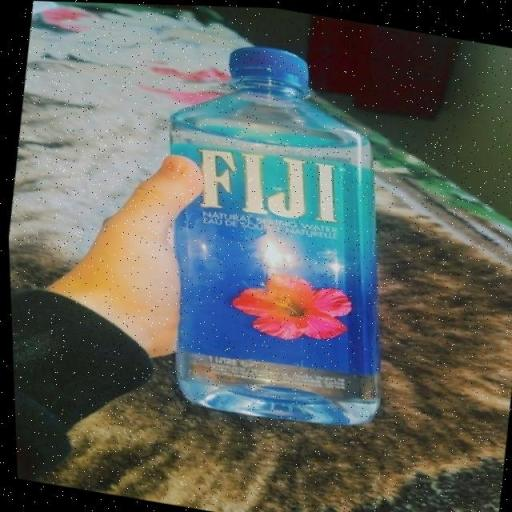plastic: (126, 28, 426, 438)
